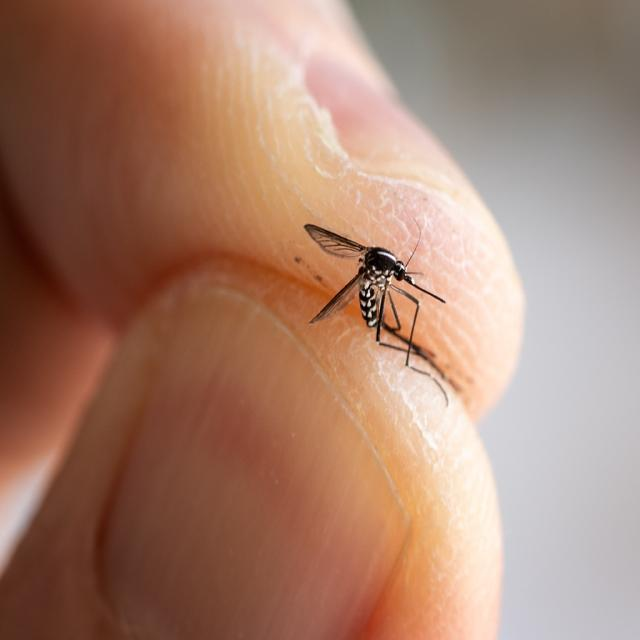albopictus: (301, 205, 460, 404)
